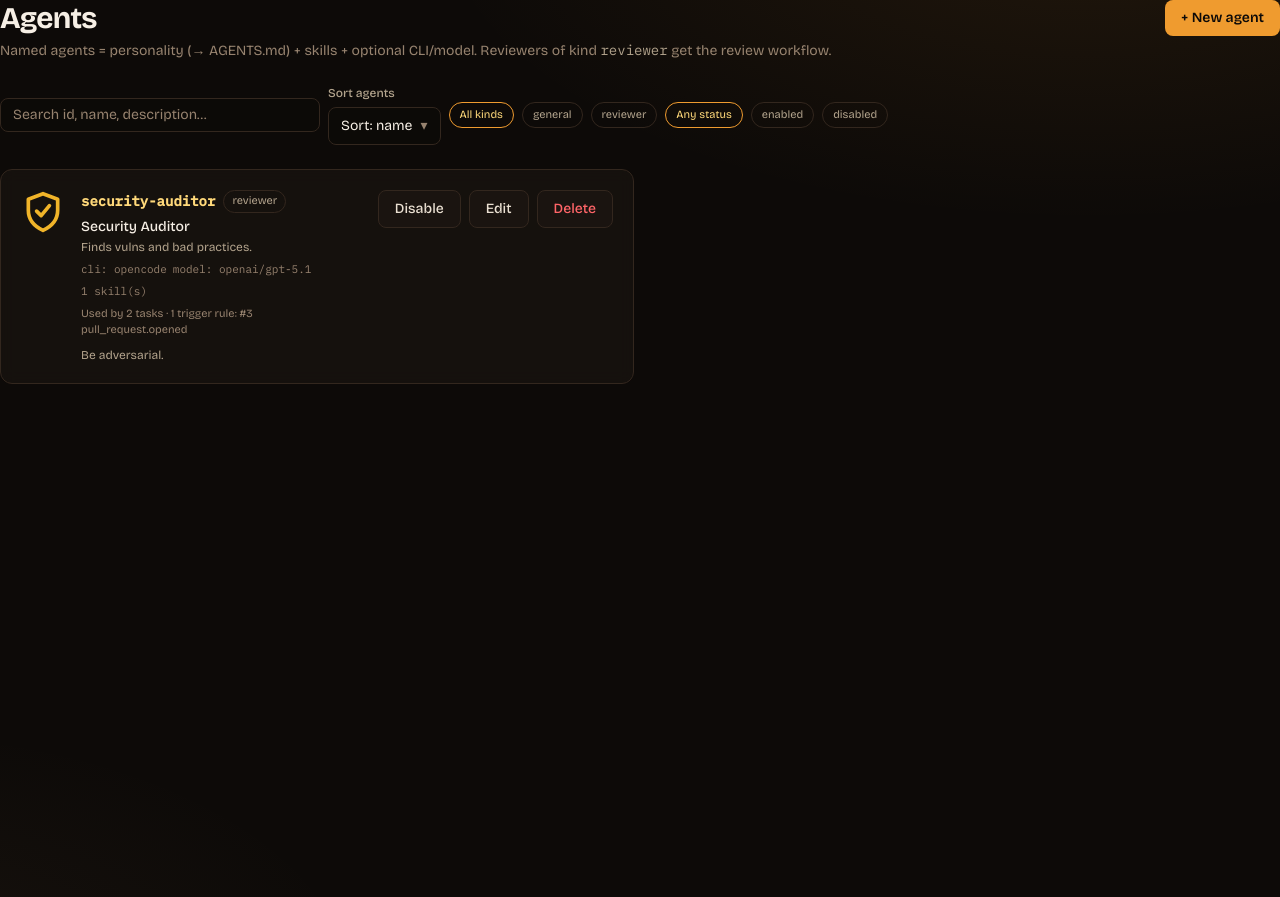
Test: Agents › offers opencode/codex/claude in the CLI override select
Expected: the text "security-auditor" is shown, [81, 191, 215, 211]
Click the button "+ New agent".
click(1223, 18)  # box [1165, 0, 1279, 36]
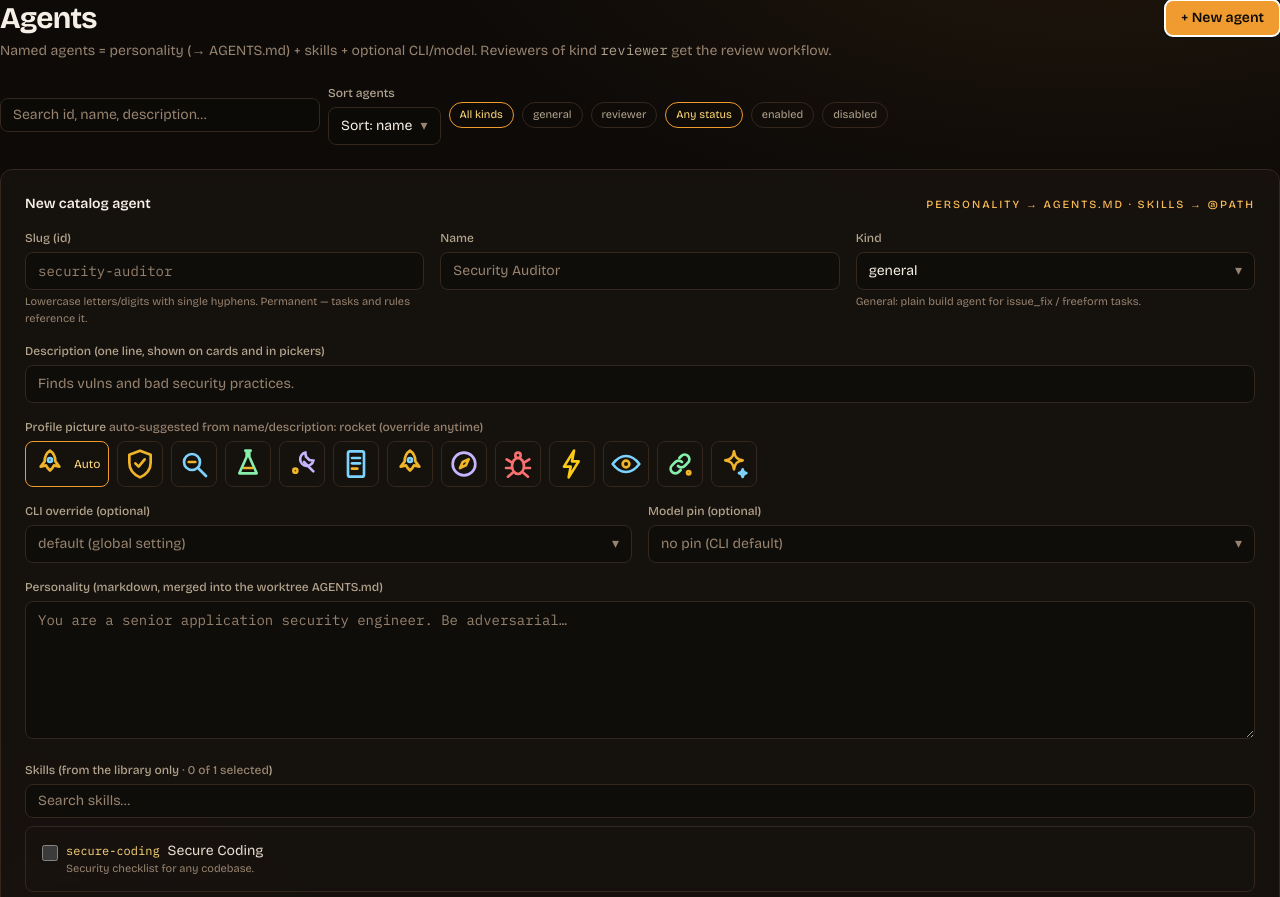
Expected: the button with aria-label "CLI override (optional)" shows "default (global setting)"
Click the button with aria-label "CLI override (optional)".
click(112, 544)  # box [25, 525, 632, 563]
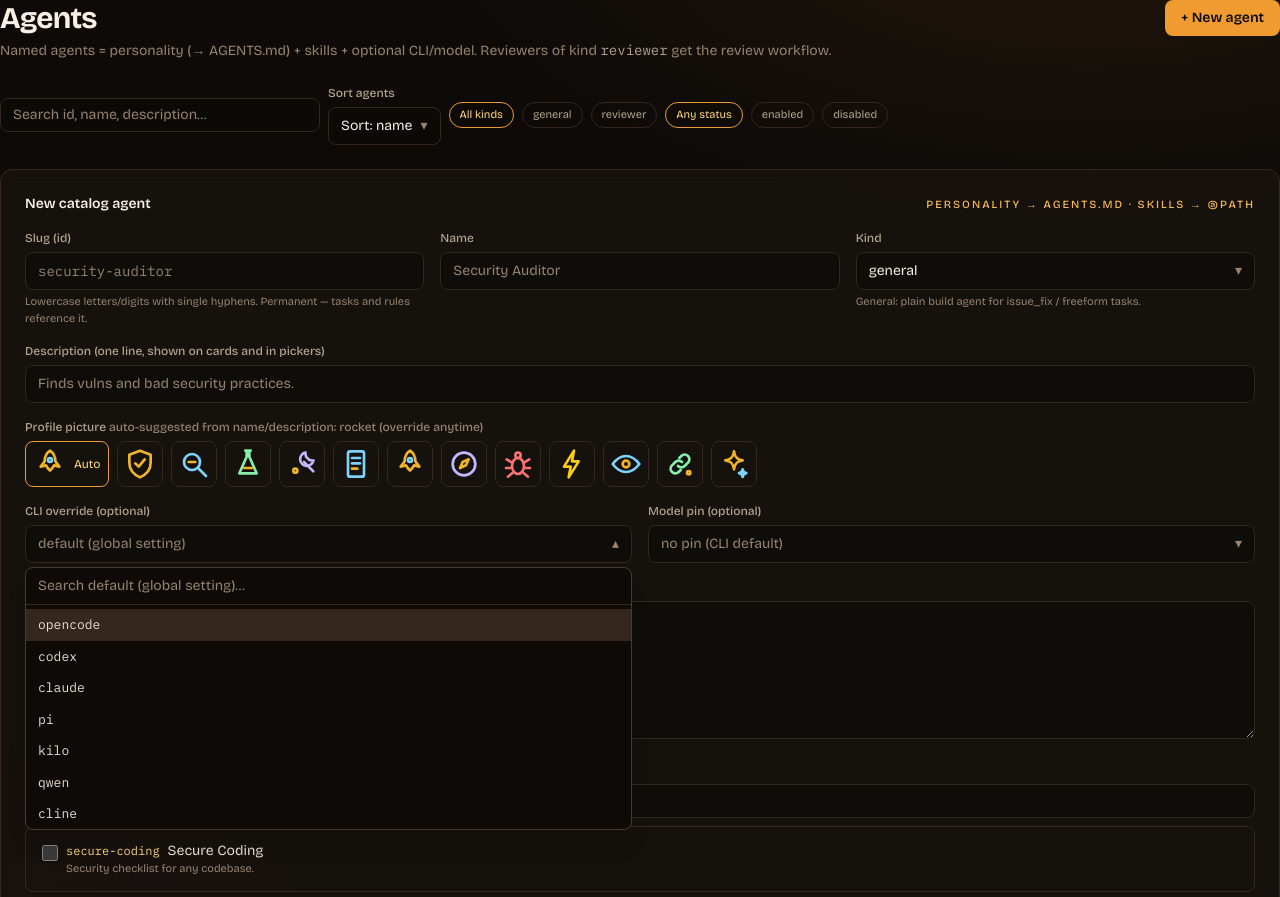
Expected: the option "opencode" is shown, [26, 609, 631, 640]
Expected: the option "codex" is shown, [38, 648, 77, 664]
Expected: the option "claude" is shown, [38, 679, 85, 696]
